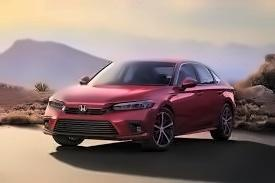Car hood: (50, 83, 171, 103)
Fender - -F-L-: (155, 85, 180, 136)
Front bumper: (41, 106, 158, 140)
Headlight - -L-: (113, 99, 156, 111)
Headlight - -R-: (48, 97, 66, 113)
Passenger-s door - -F-L-: (170, 59, 205, 137)
Passenger-s door - -R-L-: (192, 59, 224, 139)
Side bumper - -L-: (174, 117, 221, 143)
Side mirror - -L-: (176, 77, 197, 91)
Side mirror - -R-: (78, 76, 90, 88)
